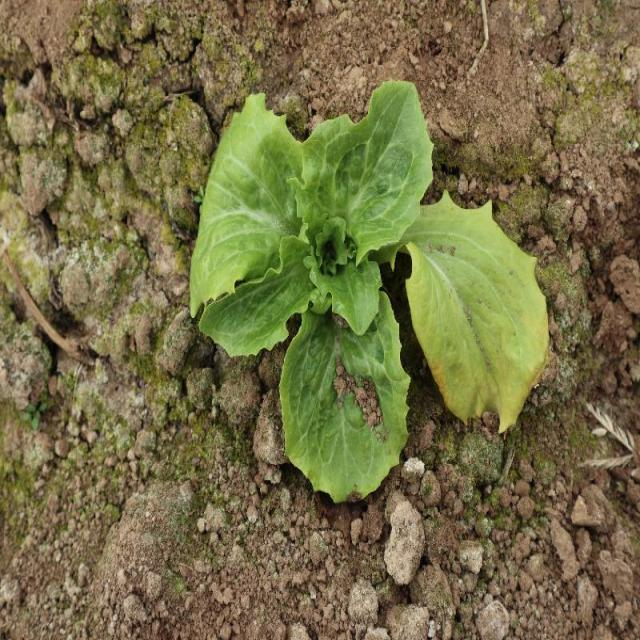crop: (187, 79, 549, 501)
